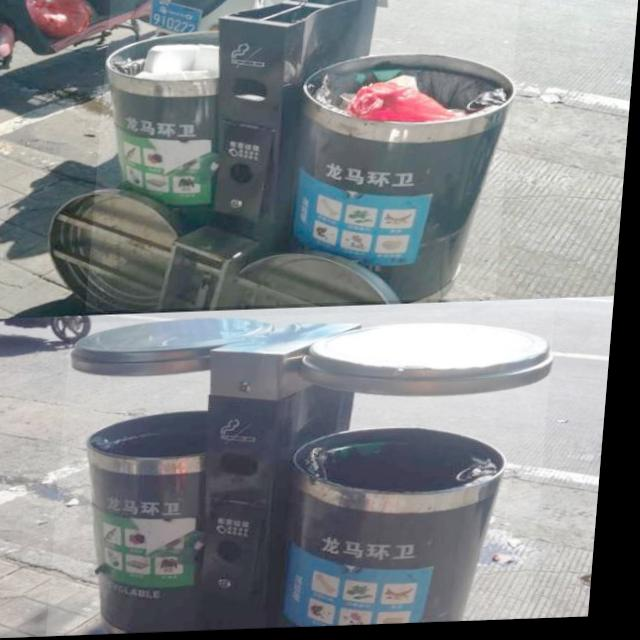garbage_bin: (57, 310, 561, 636)
overflow: (91, 0, 521, 313)
